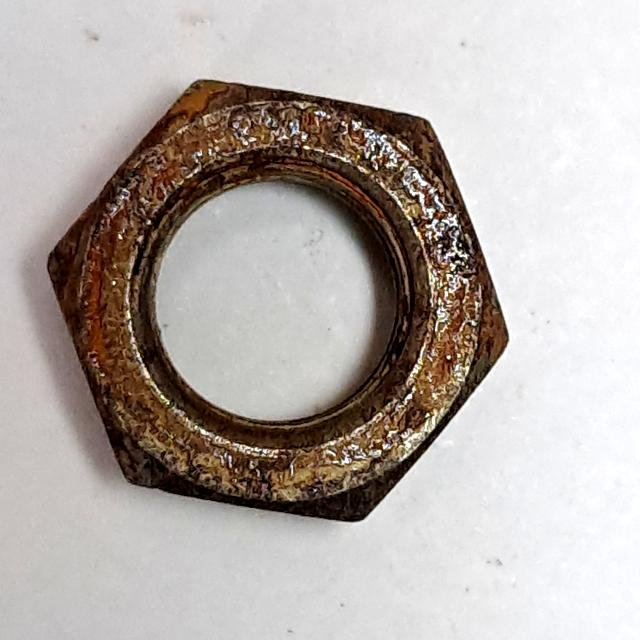Rust: (34, 66, 524, 537)
